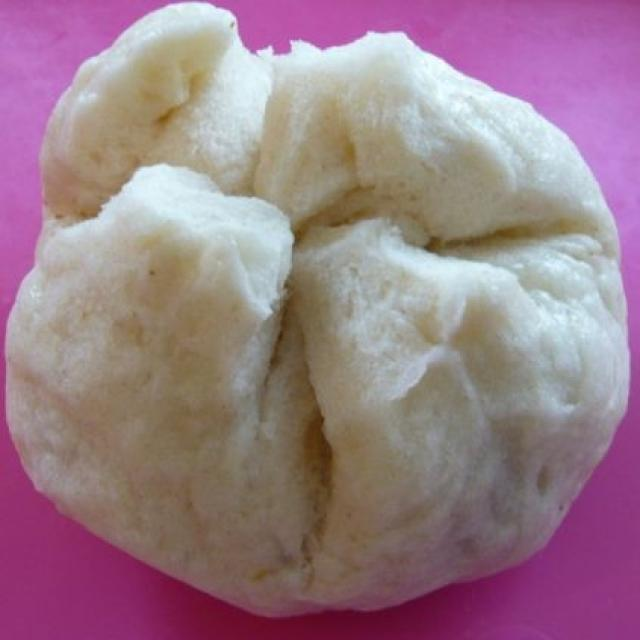带馅早点: (11, 10, 630, 623)
